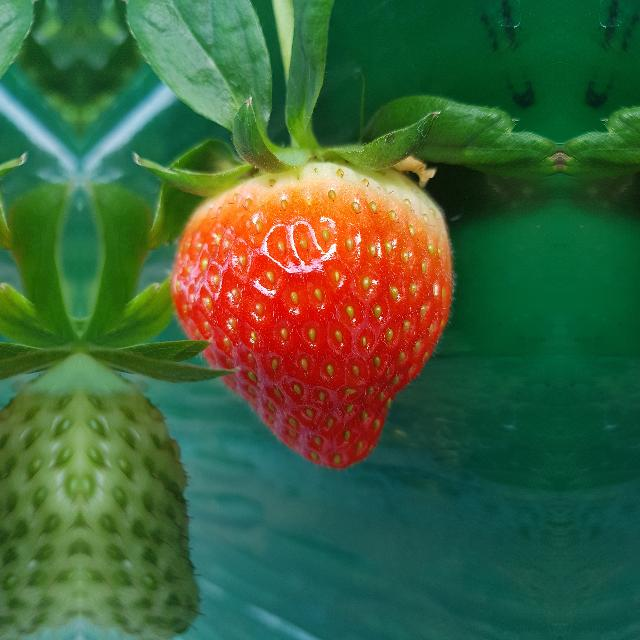Health_100: (168, 162, 454, 468)
